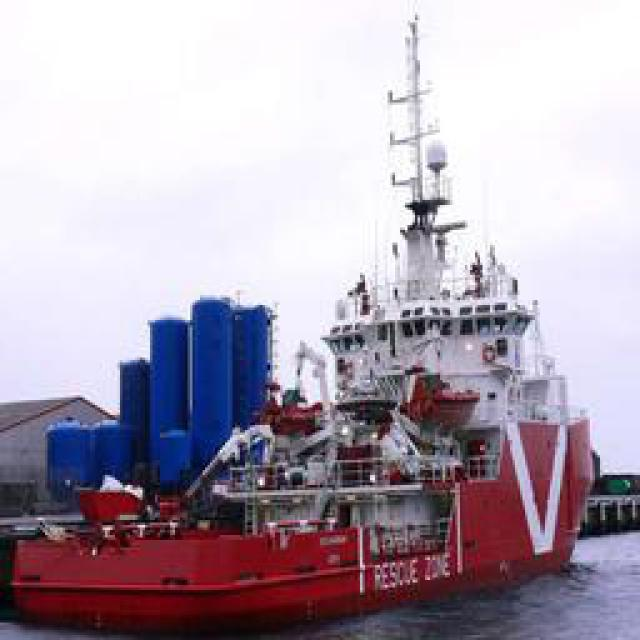Ship: (7, 83, 597, 628)
